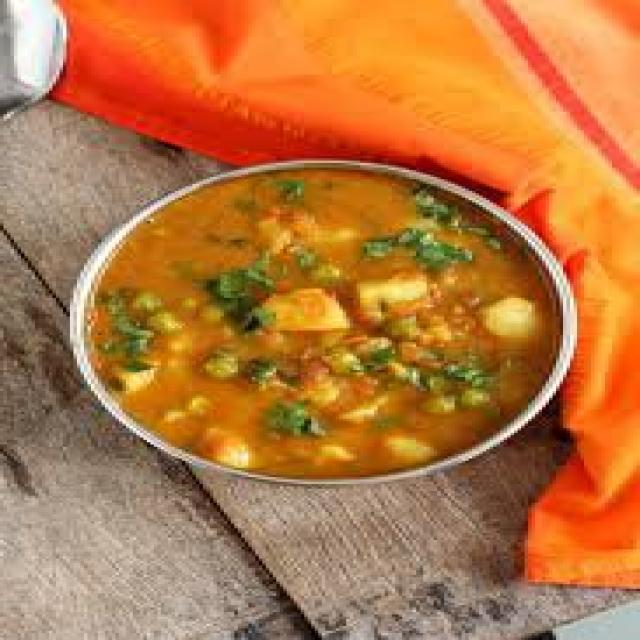Aloo Matar: (90, 172, 537, 473)
